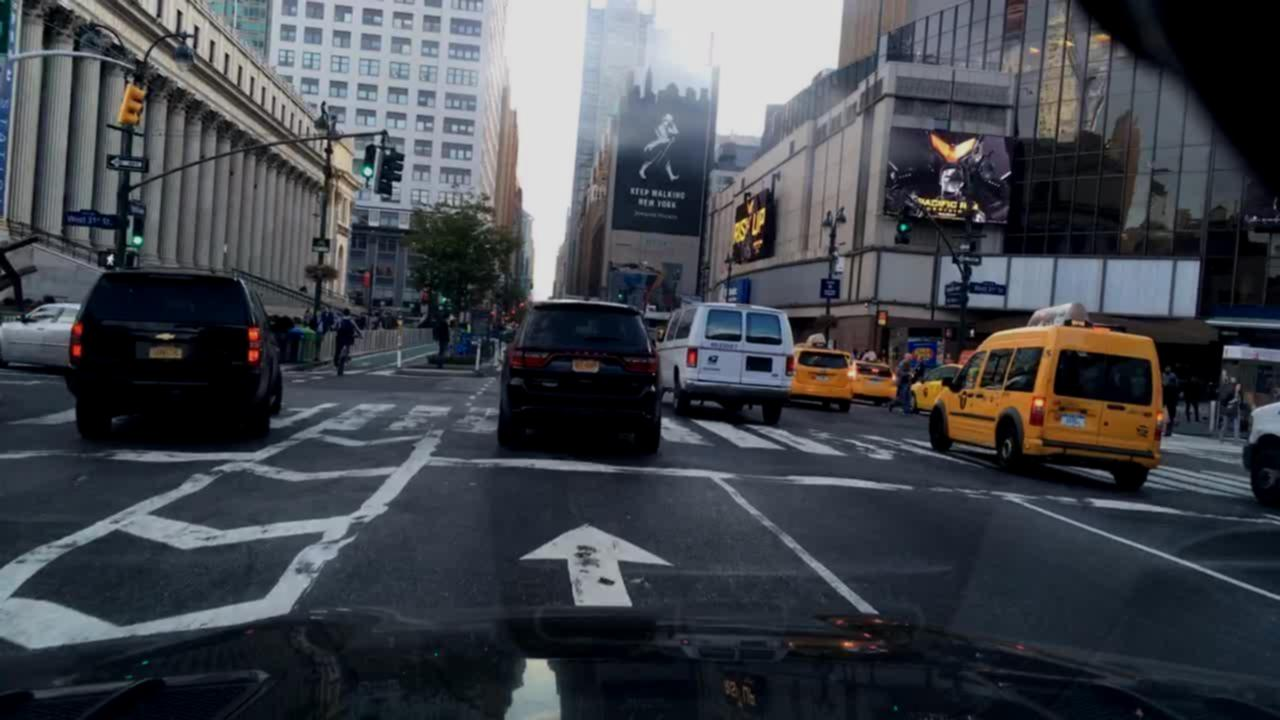chevrolet: (152, 330, 179, 347)
dodge: (558, 344, 615, 359)
